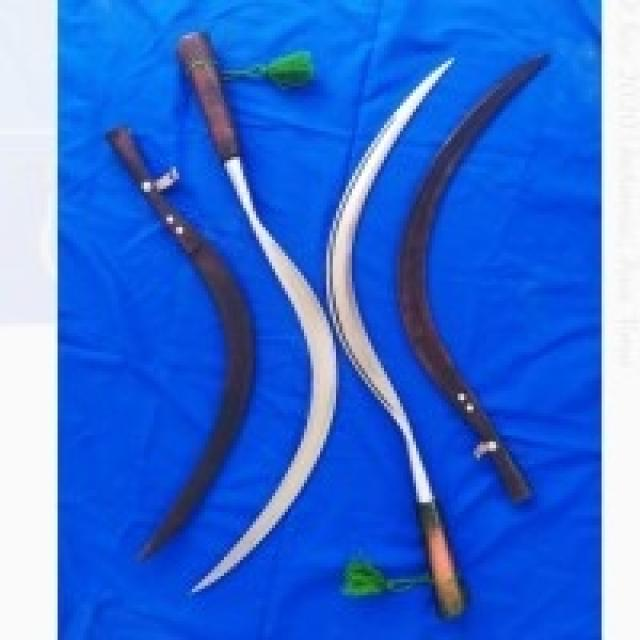Celurit: (182, 29, 345, 597)
